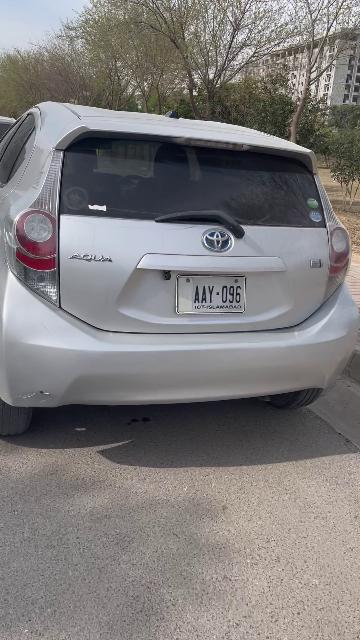plate: (177, 274, 247, 314)
